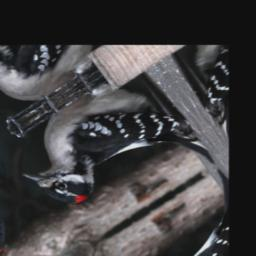Woodpecker: (0, 55, 218, 252)
